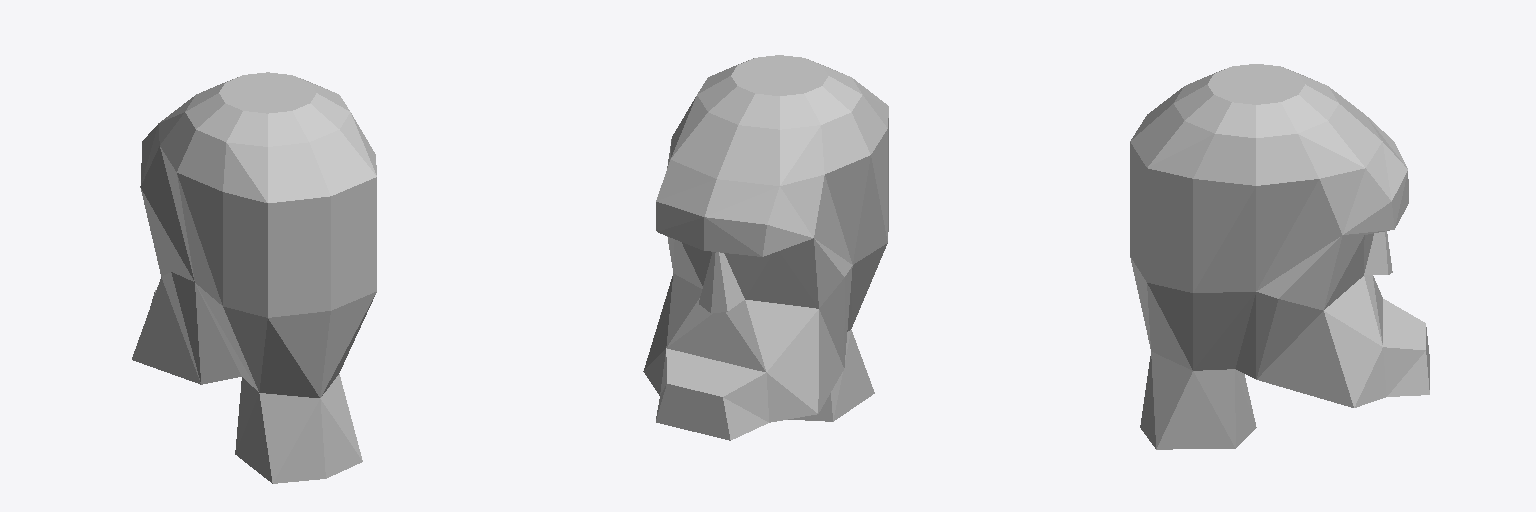
Rendered from beardFace.obj.
3 views of the same model, side by side, from view 1: azimuth 30°, elevation 25°; view 2: azimuth 150°, elevation 25°; view 3: azimuth 270°, elevation 25° (orthographic).
Bounding box in the file's own units: 0.1118 × 0.2012 × 0.1592.